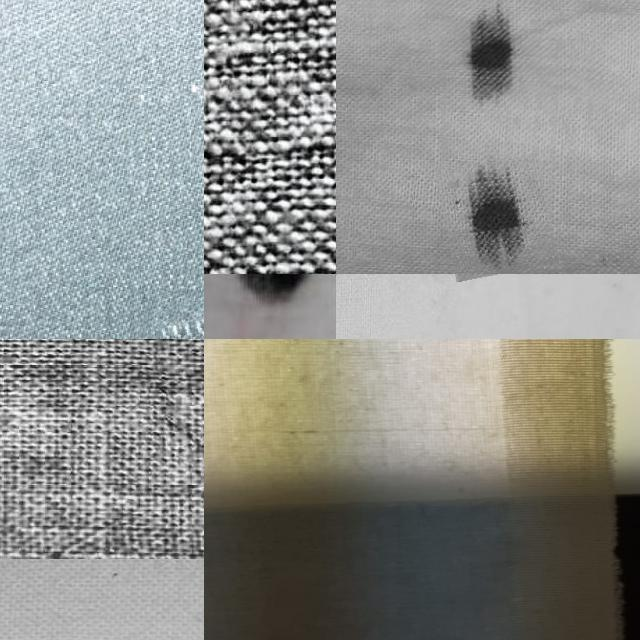Thread_other: (440, 158, 554, 278), (438, 0, 537, 123), (204, 274, 336, 339)
stains: (140, 291, 204, 339)
